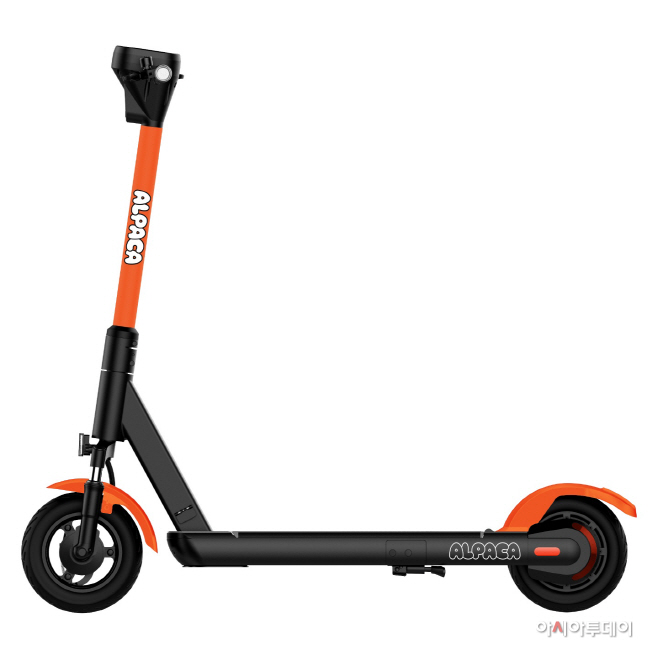scooter: (17, 41, 638, 612)
